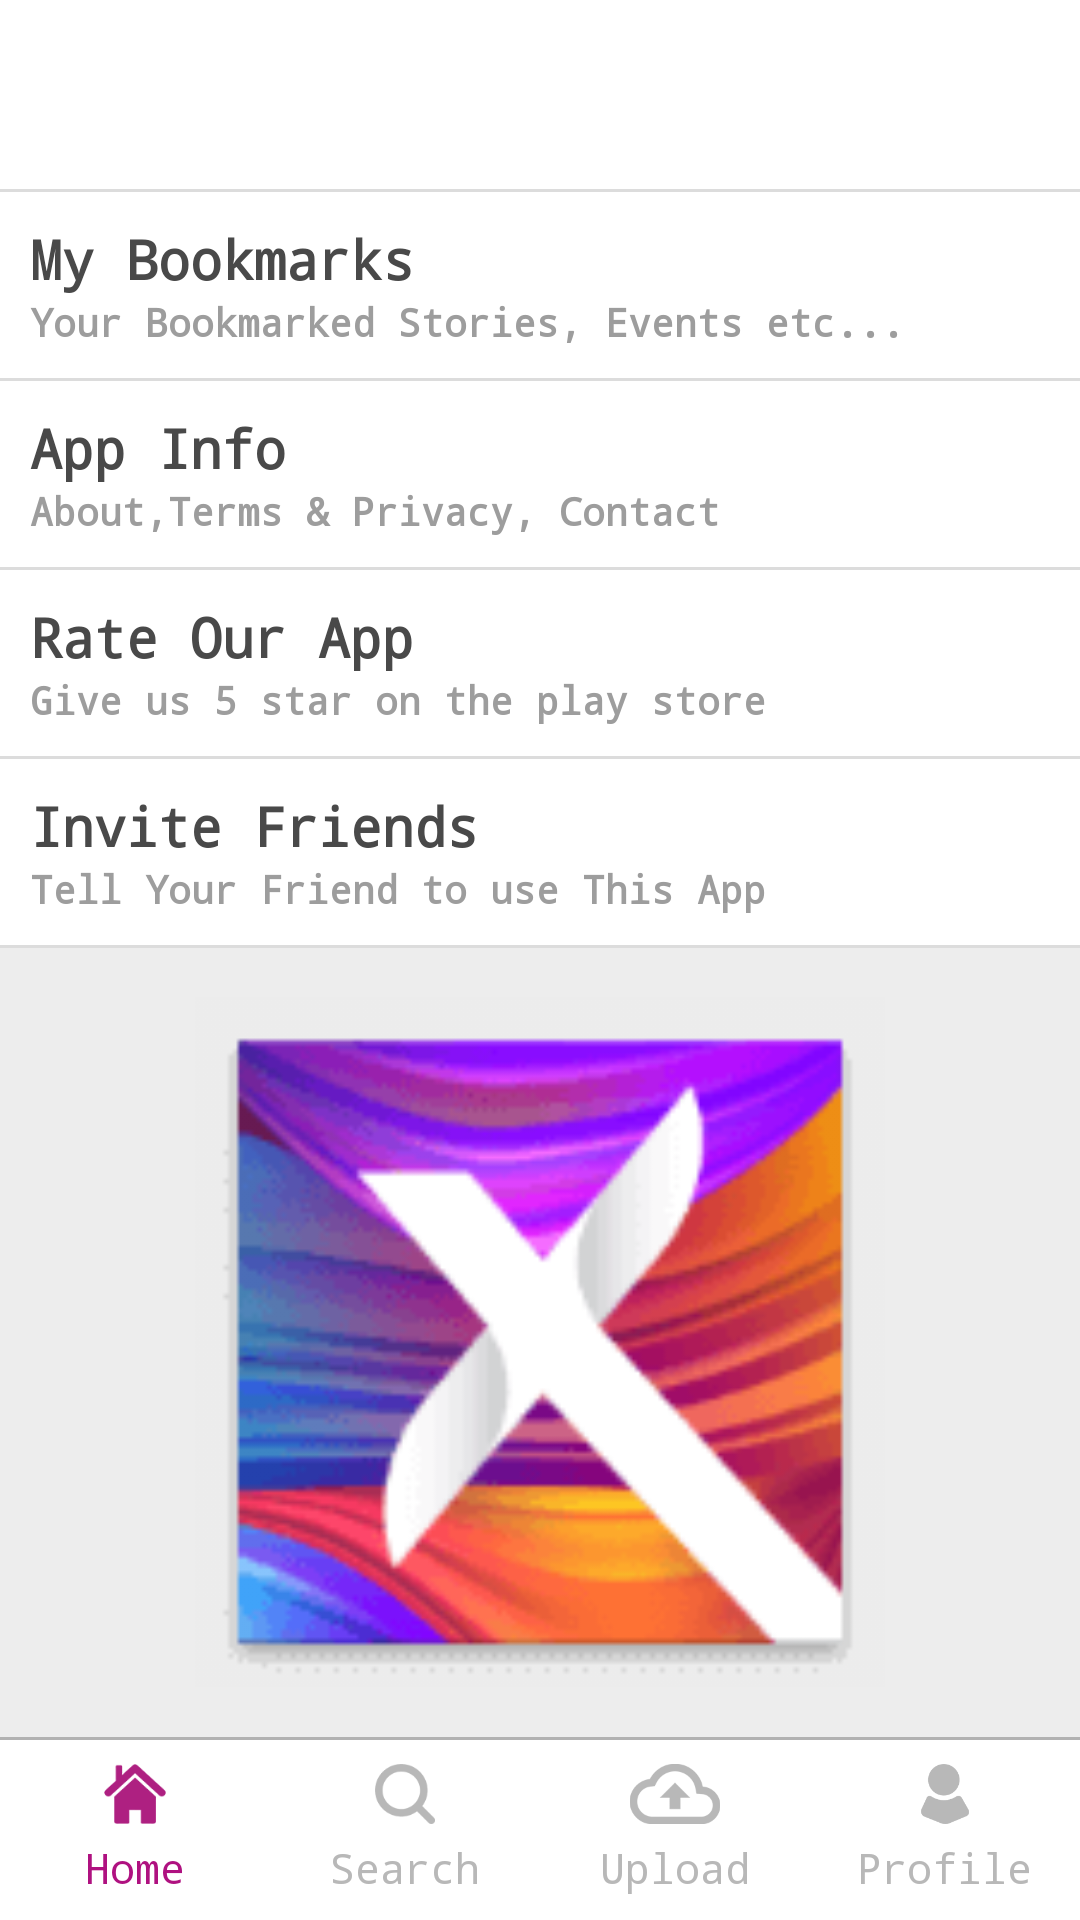

Screen size 1080px x 1920px. Icon name, then its center in pixels as [x,y]:
user: [945,1794]
